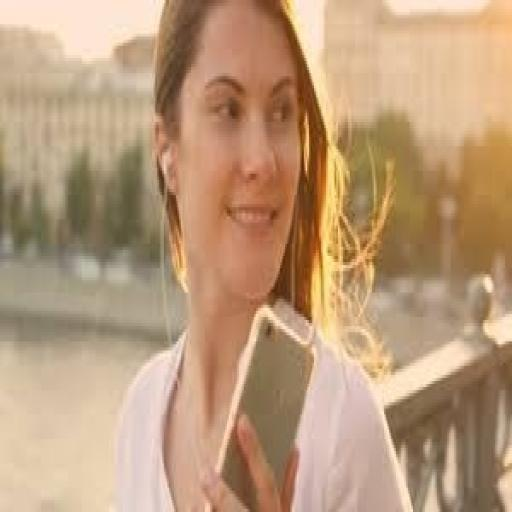listening_to_music: (111, 0, 416, 509)
